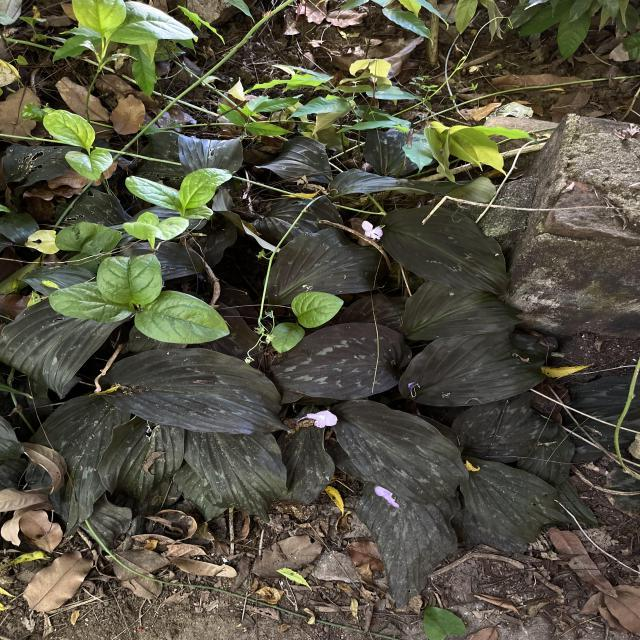Kaempferia galanga linn: (93, 347, 294, 437), (330, 397, 470, 508), (378, 204, 514, 298), (397, 328, 548, 408), (266, 320, 412, 402)
